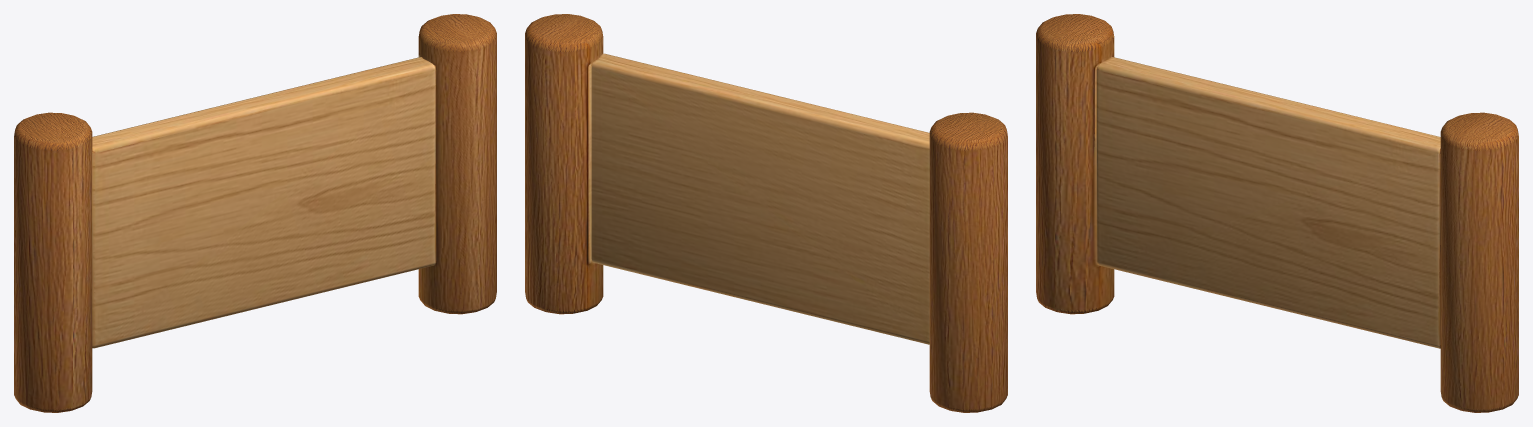
File: board-intact.glb
The picture shows the model from 3 angles, left to right: view 1: azimuth 30°, elevation 25°; view 2: azimuth 150°, elevation 25°; view 3: azimuth 330°, elevation 25°; orthographic projection.
Visible parts, largest first — view 1: tripo_node_e384bd56-8137-4a8d-90f8-4dfd8f0e3692; view 2: tripo_node_e384bd56-8137-4a8d-90f8-4dfd8f0e3692; view 3: tripo_node_e384bd56-8137-4a8d-90f8-4dfd8f0e3692.
Boxes of the visible parts, x1,y1,x2,y2 form: tripo_node_e384bd56-8137-4a8d-90f8-4dfd8f0e3692: (14, 14, 496, 412); tripo_node_e384bd56-8137-4a8d-90f8-4dfd8f0e3692: (525, 14, 1007, 412); tripo_node_e384bd56-8137-4a8d-90f8-4dfd8f0e3692: (1036, 14, 1518, 412).
Size of the model in its own units: 0.9995 by 0.5503 by 0.145.
Materials: 1 (1 with a texture image).
